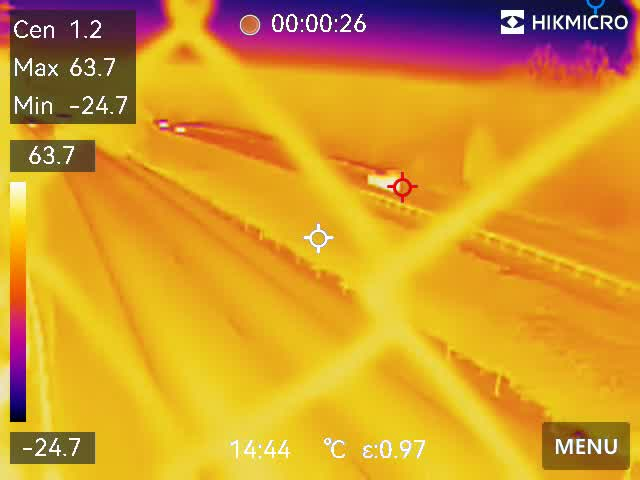vehicle: (359, 164, 406, 196), (172, 122, 188, 137), (156, 117, 170, 133)
